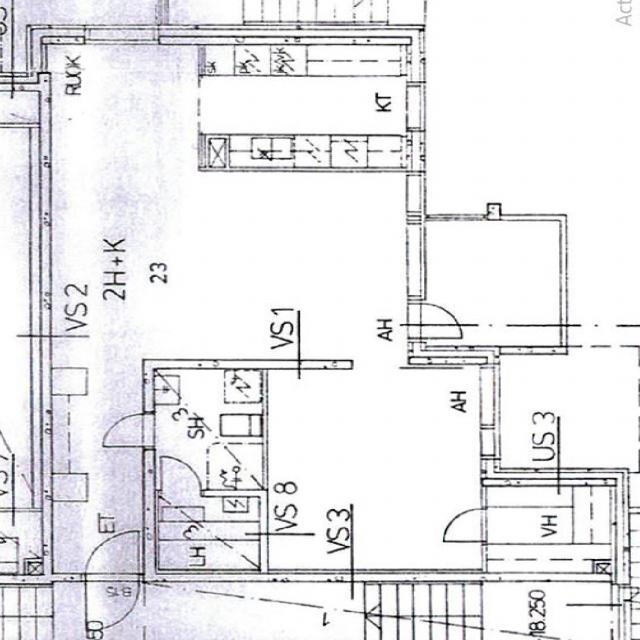door: (85, 572, 138, 626), (85, 527, 138, 581), (407, 304, 463, 338), (161, 456, 201, 497), (105, 414, 154, 447), (442, 509, 487, 541)
